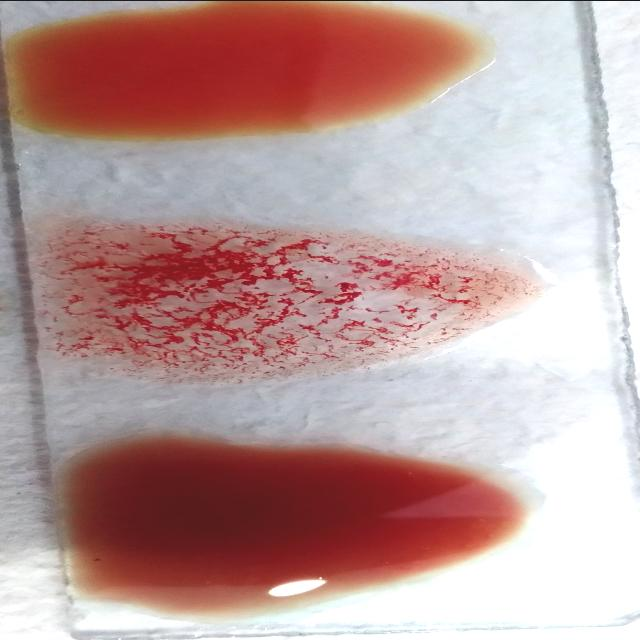D: (42, 222, 528, 380)
